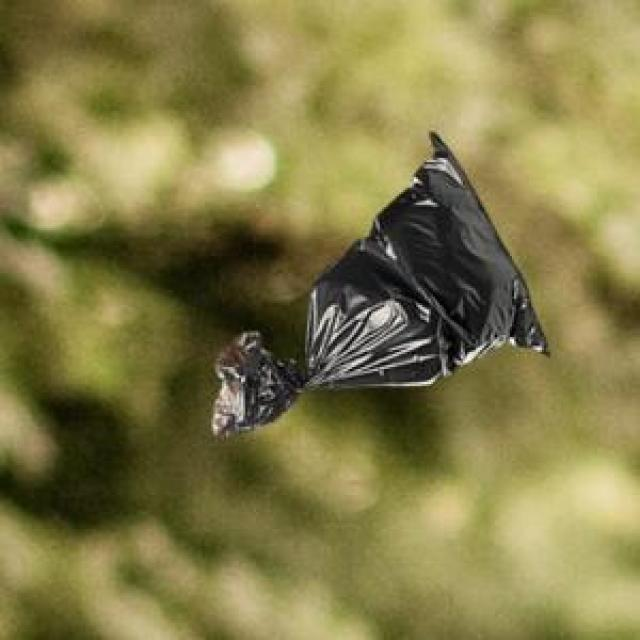miscellaneous trash: (209, 128, 546, 431)
